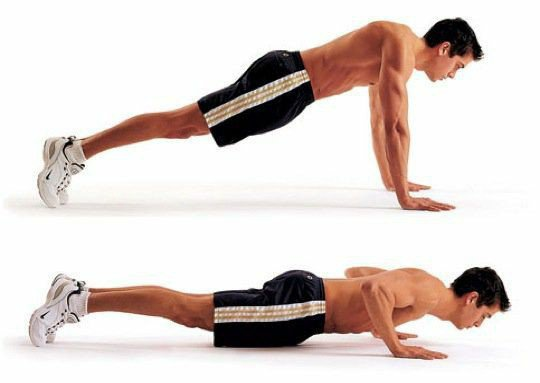down: (33, 266, 512, 364)
up: (39, 16, 484, 213)
